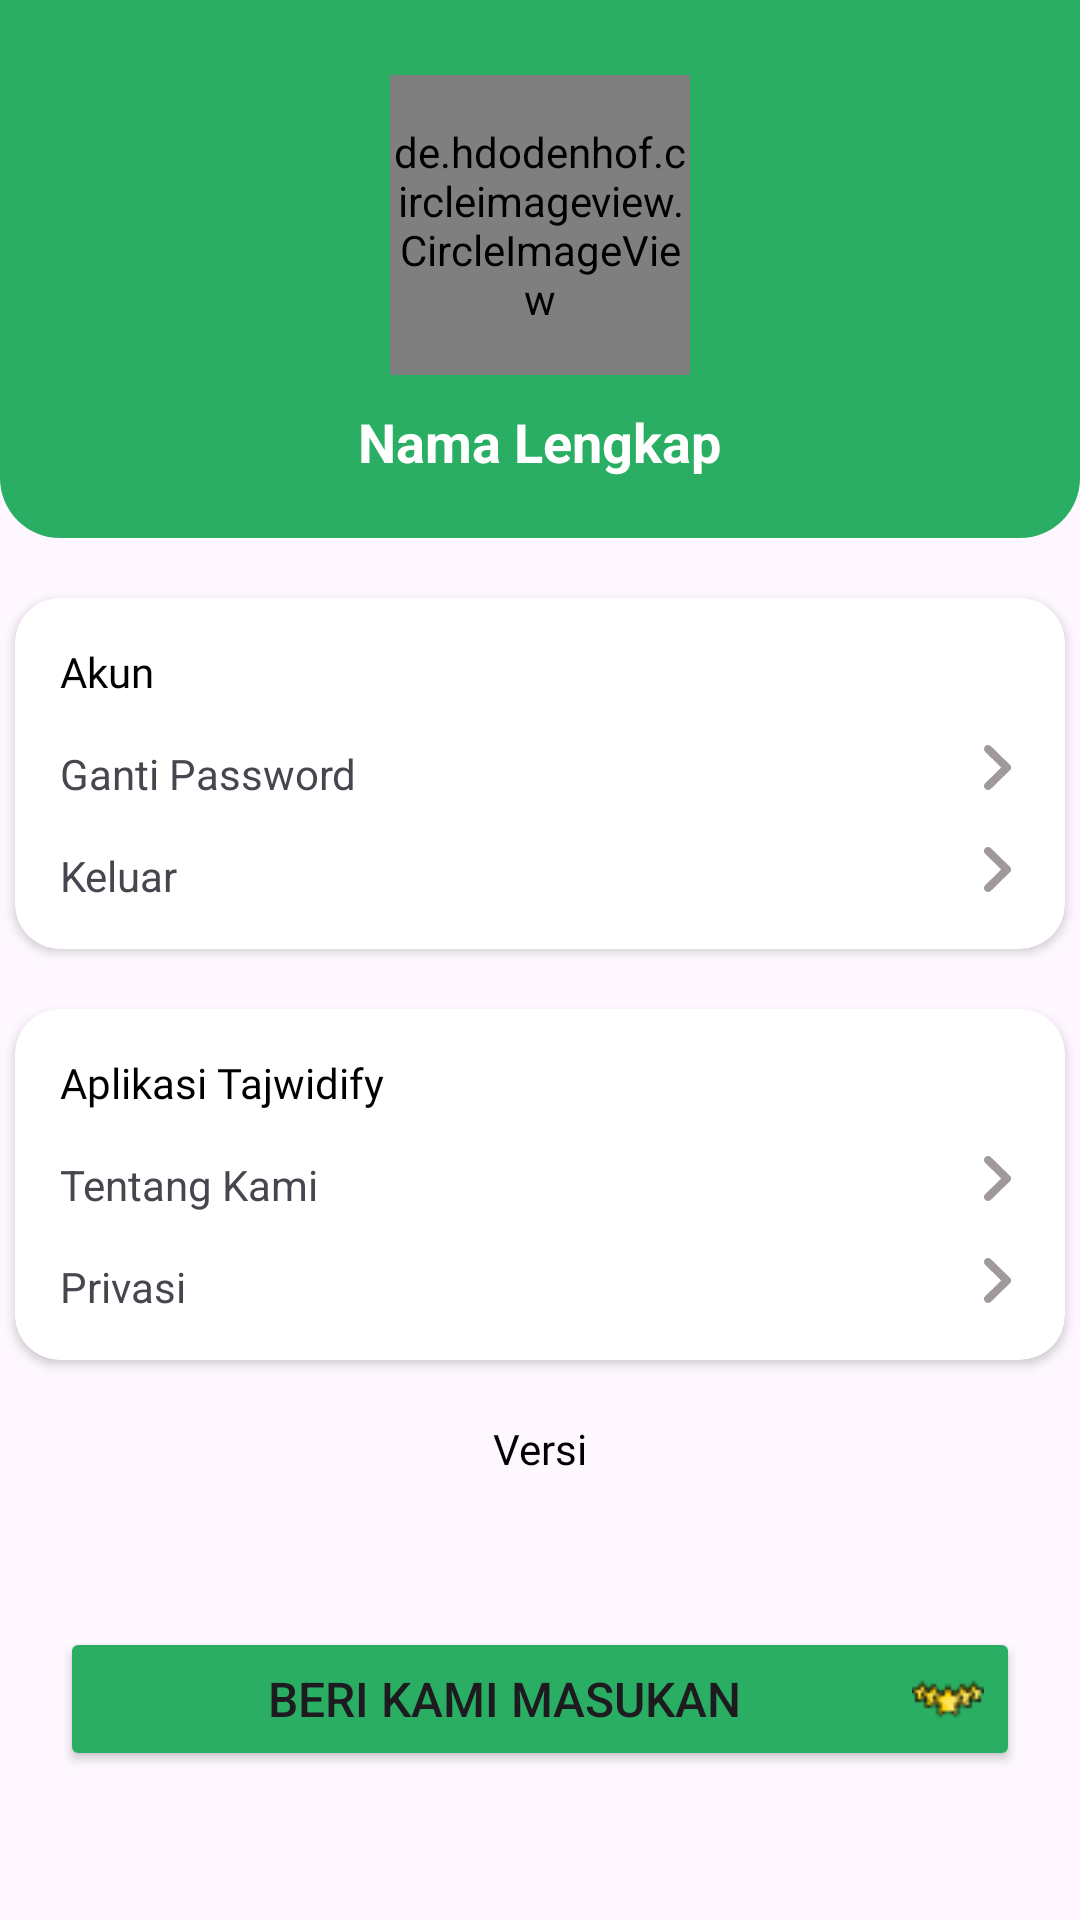

Locate icon controls on the screen. Image size 1080px×1920px, boxes as (x1, y1, x2, y2).
arrow next: (984, 745, 1011, 790), (984, 847, 1011, 892), (984, 1156, 1011, 1201), (984, 1258, 1011, 1303)
